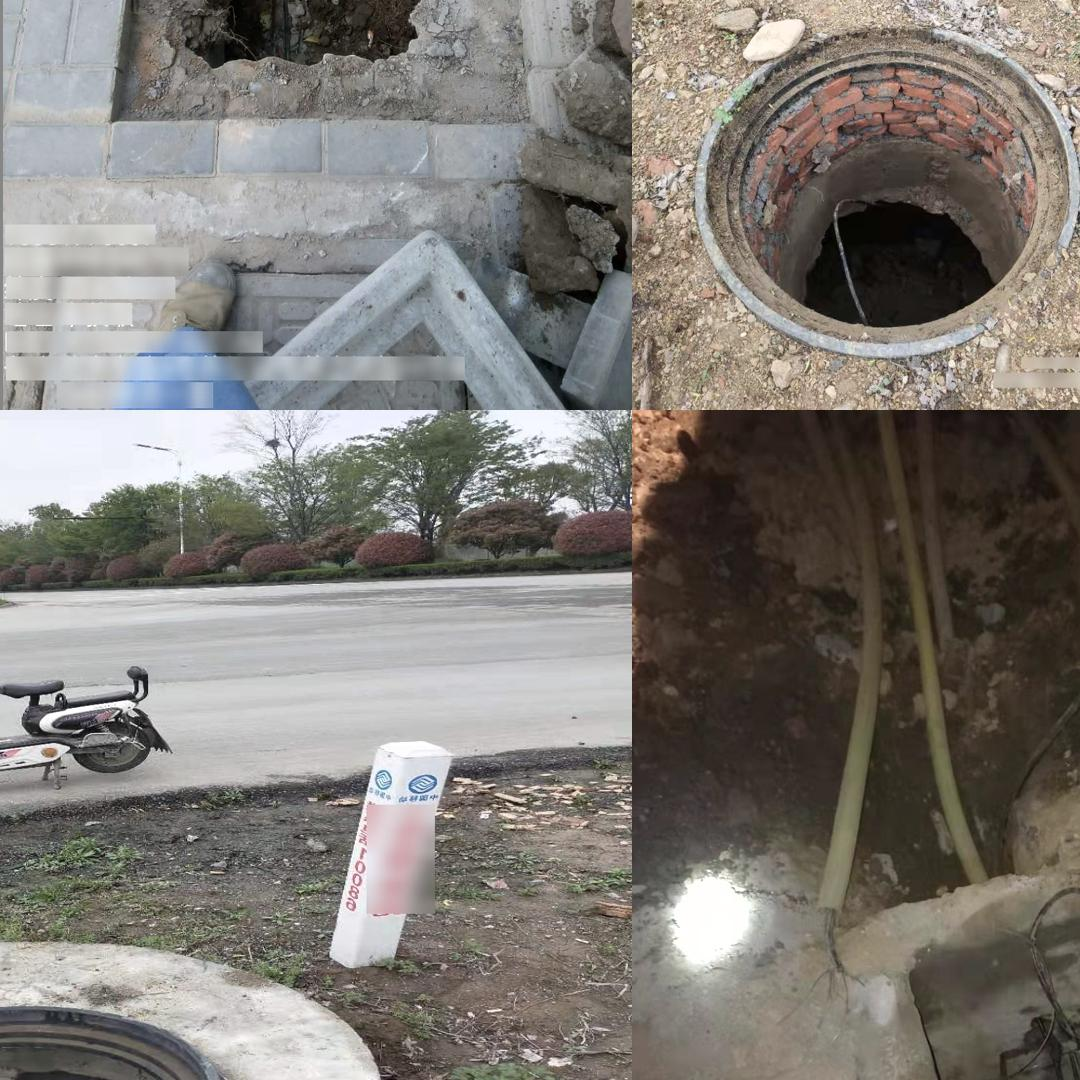lose: (690, 24, 1077, 358), (110, 0, 534, 120), (864, 853, 1080, 1080), (0, 1008, 255, 1080)
